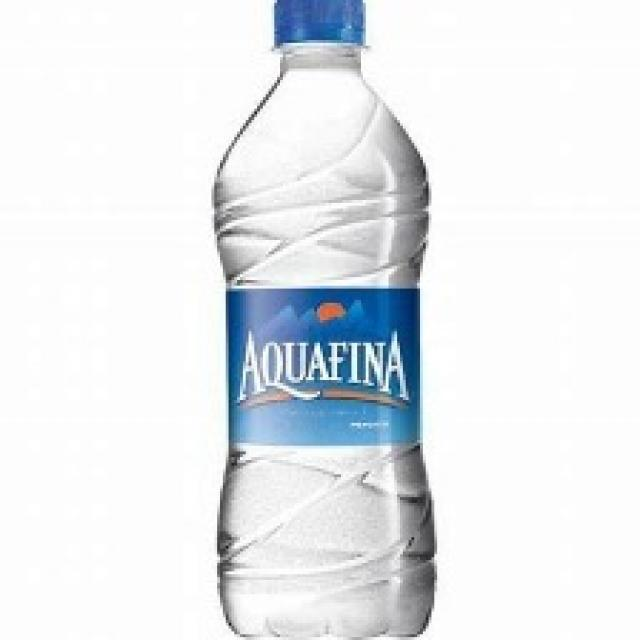plastic_bag: (192, 1, 450, 640)
